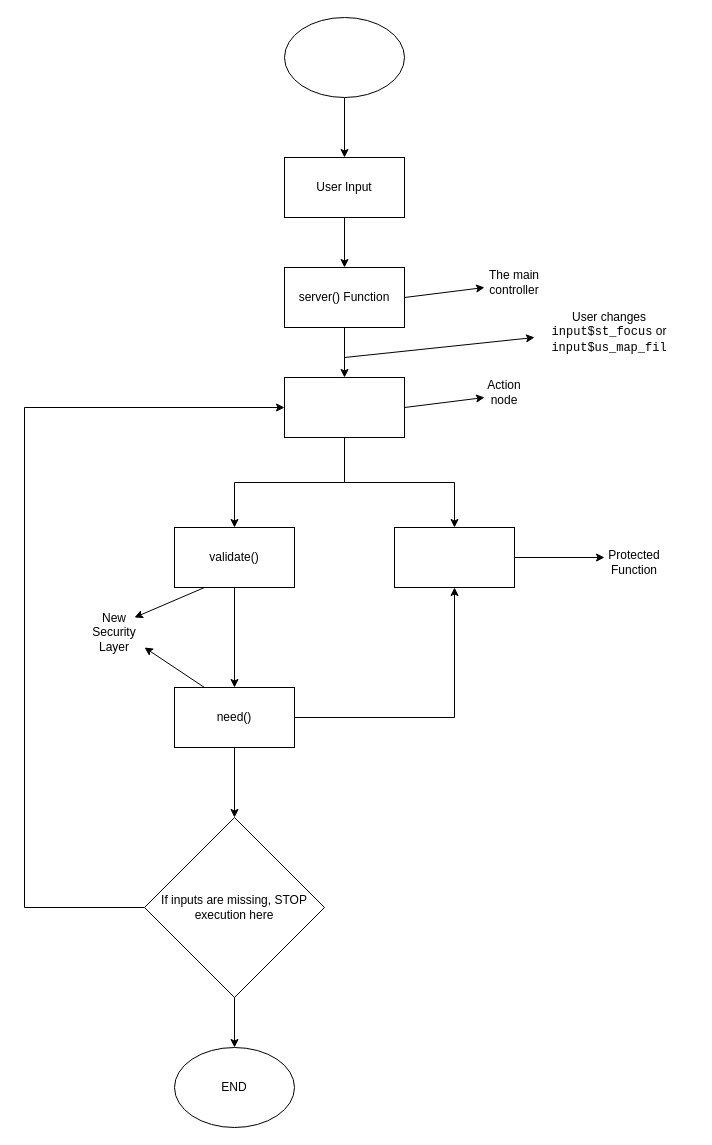
The diagram is 712 pixels wide and 1145 high, and some of its shapes have lost their labels. Each missing label, with the centre of its shape:
"output$us_map (renderLeaflet)" goes at (344,407).
"plot_map()" goes at (454,557).
"START" goes at (344,57).
